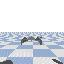drone: (21, 36, 42, 45)
